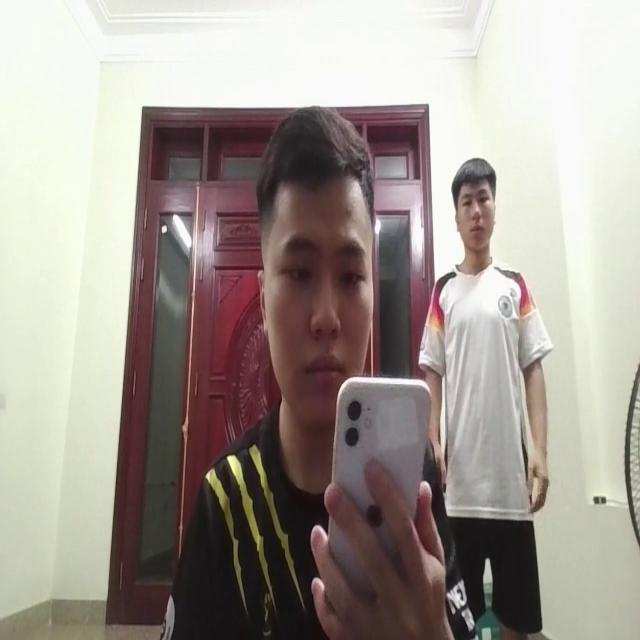extra_person: (416, 130, 549, 640)
phone: (318, 362, 430, 630)
student: (171, 104, 458, 640)
